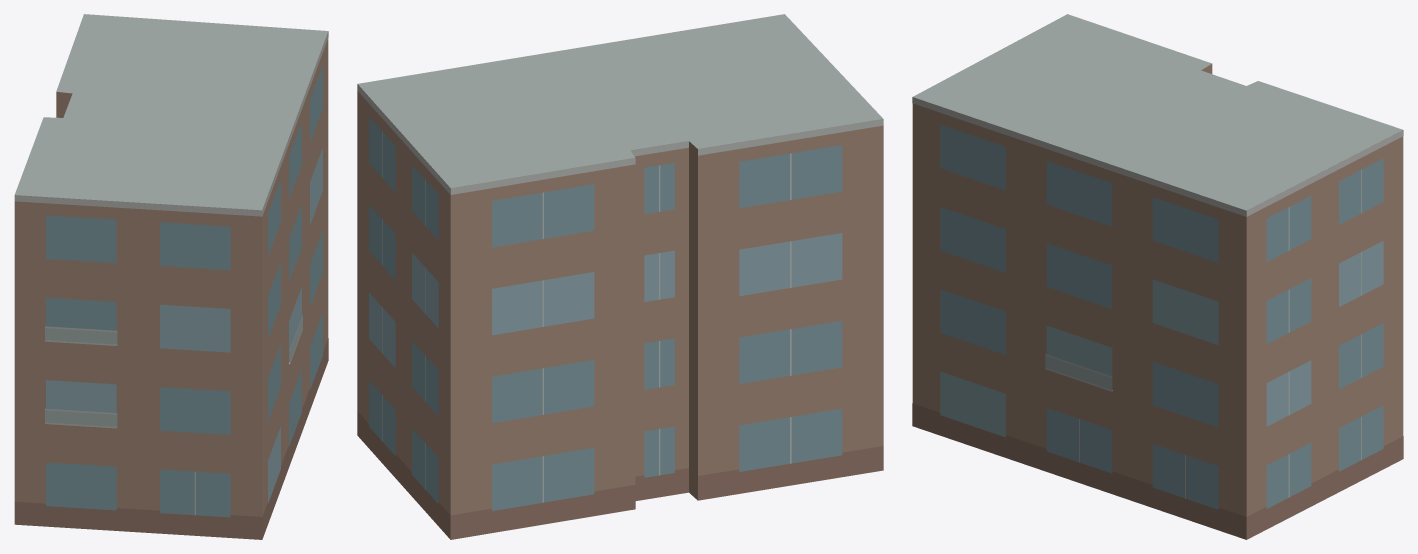
The model's file is survey-upis-32703713.glb.
3 renders of one model, left to right at view 1: azimuth 30°, elevation 25°; view 2: azimuth 150°, elevation 25°; view 3: azimuth 270°, elevation 25°, orthographic. The views are drawn at different scales.
Visible parts, largest first — view 1: survey-upis-32703713.tmp; view 2: survey-upis-32703713.tmp; view 3: survey-upis-32703713.tmp.
Part boxes in pixels (left/top/right/bottom): survey-upis-32703713.tmp: left=14, top=14, right=328, bottom=539; survey-upis-32703713.tmp: left=357, top=14, right=883, bottom=539; survey-upis-32703713.tmp: left=912, top=14, right=1403, bottom=539.
Size of the model in its own units: 16.41 by 12.8 by 17.31.
